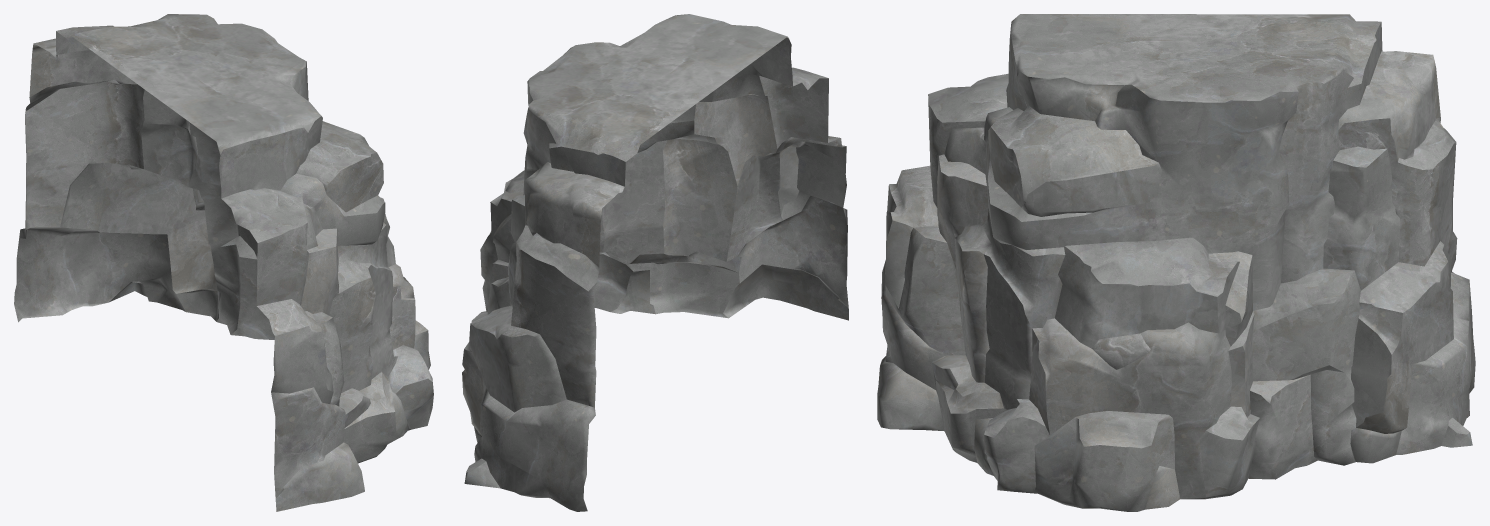
File: SM_Com_Roc_16AM.fbx
3 views of the same model, side by side, from view 1: azimuth 30°, elevation 25°; view 2: azimuth 150°, elevation 25°; view 3: azimuth 270°, elevation 25° (orthographic). The views are drawn at different scales.
Visible parts, largest first — view 1: SM_Com_Roc_16AM.mo; view 2: SM_Com_Roc_16AM.mo; view 3: SM_Com_Roc_16AM.mo.
Boxes of the visible parts, box(x1,y1,x2,y2) form: SM_Com_Roc_16AM.mo: box(14, 14, 433, 511); SM_Com_Roc_16AM.mo: box(462, 14, 848, 511); SM_Com_Roc_16AM.mo: box(877, 14, 1475, 511).
Bounding box in the file's own units: 70.41 × 89.5 × 132.
